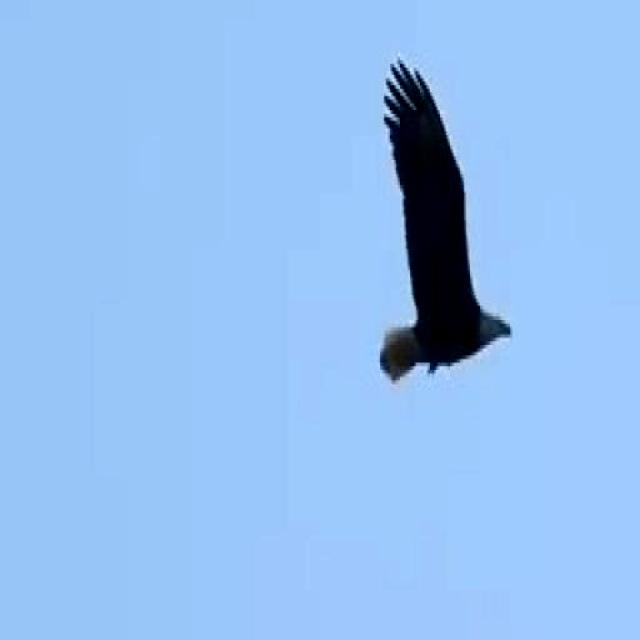airplane: (364, 25, 519, 410)
